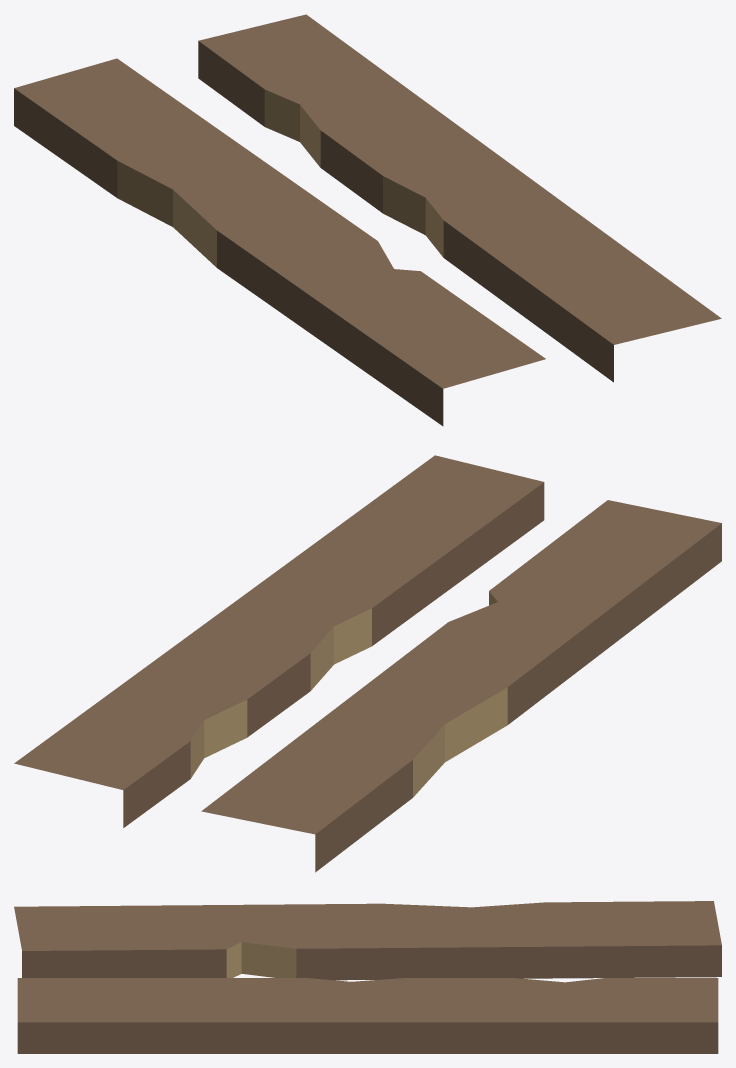
File: Cave_Prop_Support_Ceiling_Boards_4.glb
3 renders of one model, top to bottom at view 1: azimuth 30°, elevation 25°; view 2: azimuth 150°, elevation 25°; view 3: azimuth 270°, elevation 25°, orthographic. The views are drawn at different scales.
Visible parts, largest first — view 1: Cave_Prop_Support_Ceiling_Boards_4; view 2: Cave_Prop_Support_Ceiling_Boards_4; view 3: Cave_Prop_Support_Ceiling_Boards_4.
Part boxes in pixels (x1=…): Cave_Prop_Support_Ceiling_Boards_4: x1=14, y1=14, x2=721, y2=426; Cave_Prop_Support_Ceiling_Boards_4: x1=14, y1=455, x2=721, y2=872; Cave_Prop_Support_Ceiling_Boards_4: x1=14, y1=901, x2=721, y2=1053.
Bounding box in the file's own units: 0.8191 × 0.1 × 2.02.
